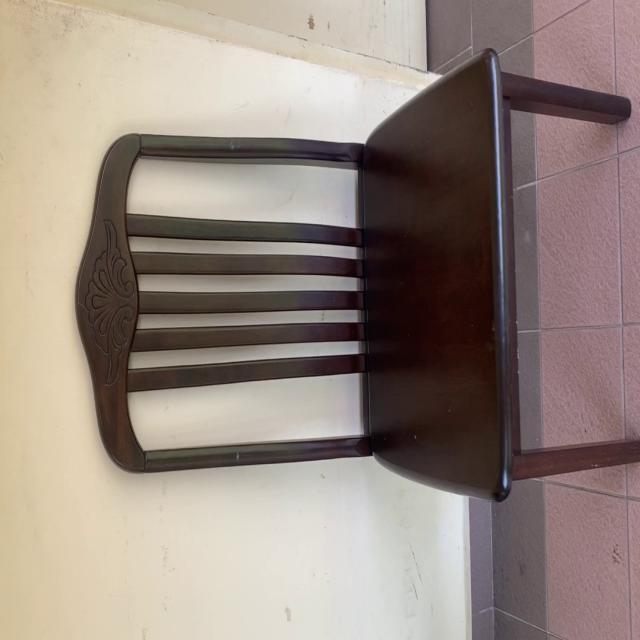chair: (71, 44, 640, 532)
